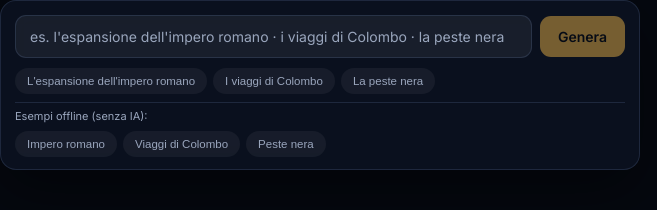
Scenario: Generator › errore senza fallback disponibile: messaggio leggibile e distinto per codice (429 rate_limited)
Replace the text in the field named "Richiesta per il generatore" with "una richiesta a caso": coordinates (273, 36) [15,15,532,58]
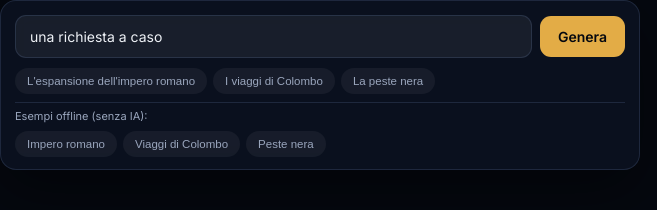
Click the button "Genera": coordinates (582, 36) [540,16,625,57]
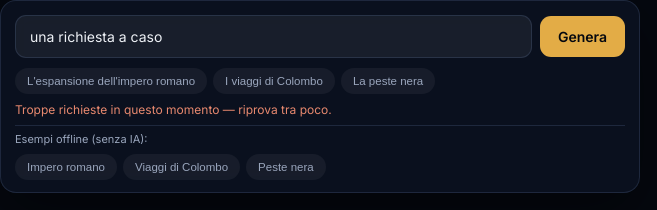
Expected: the text "Troppe richieste in questo momento — riprova tra poco." is shown, [15,102,332,117]
